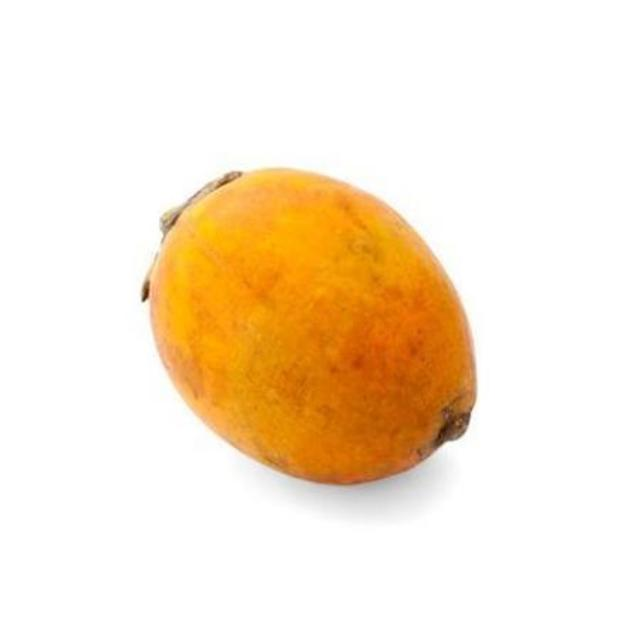good: (144, 168, 479, 488)
